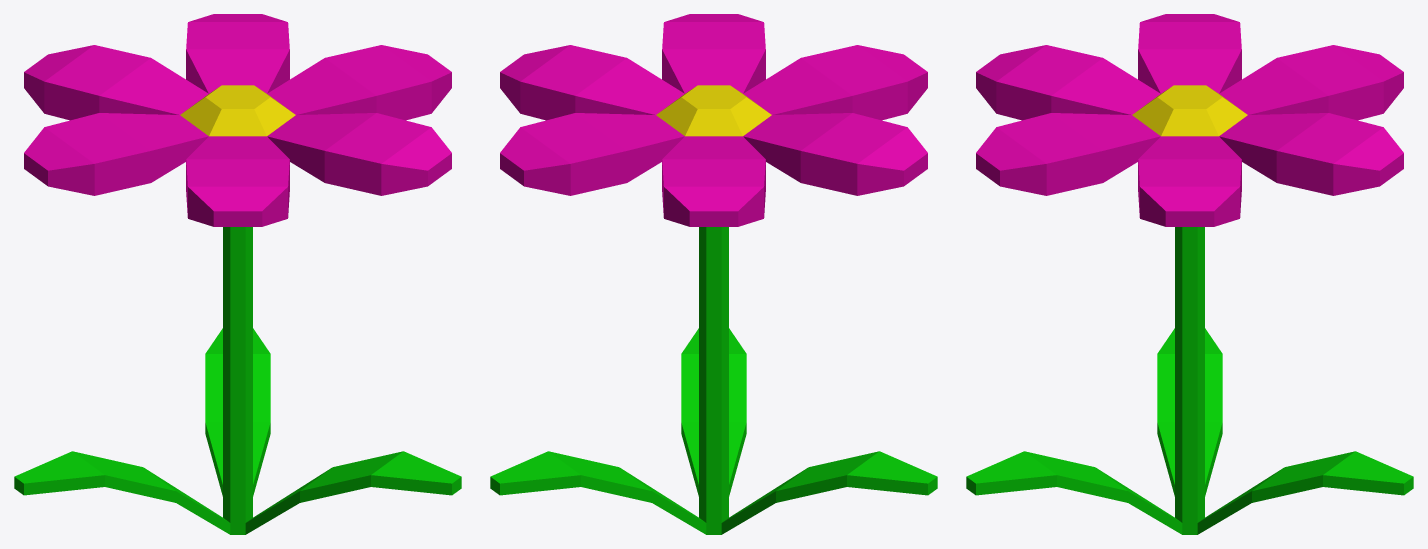
File: Flower.fbx
The picture shows the model from 3 angles, left to right: view 1: azimuth 30°, elevation 25°; view 2: azimuth 150°, elevation 25°; view 3: azimuth 270°, elevation 25°; orthographic projection.
Visible parts, largest first — view 1: 円柱; view 2: 円柱; view 3: 円柱.
Boxes of the visible parts, x1,y1,x2,y2 form: 円柱: [14, 14, 461, 534]; 円柱: [490, 14, 937, 534]; 円柱: [966, 14, 1413, 534].
Bounding box in the file's own units: 345 × 338 × 317.
